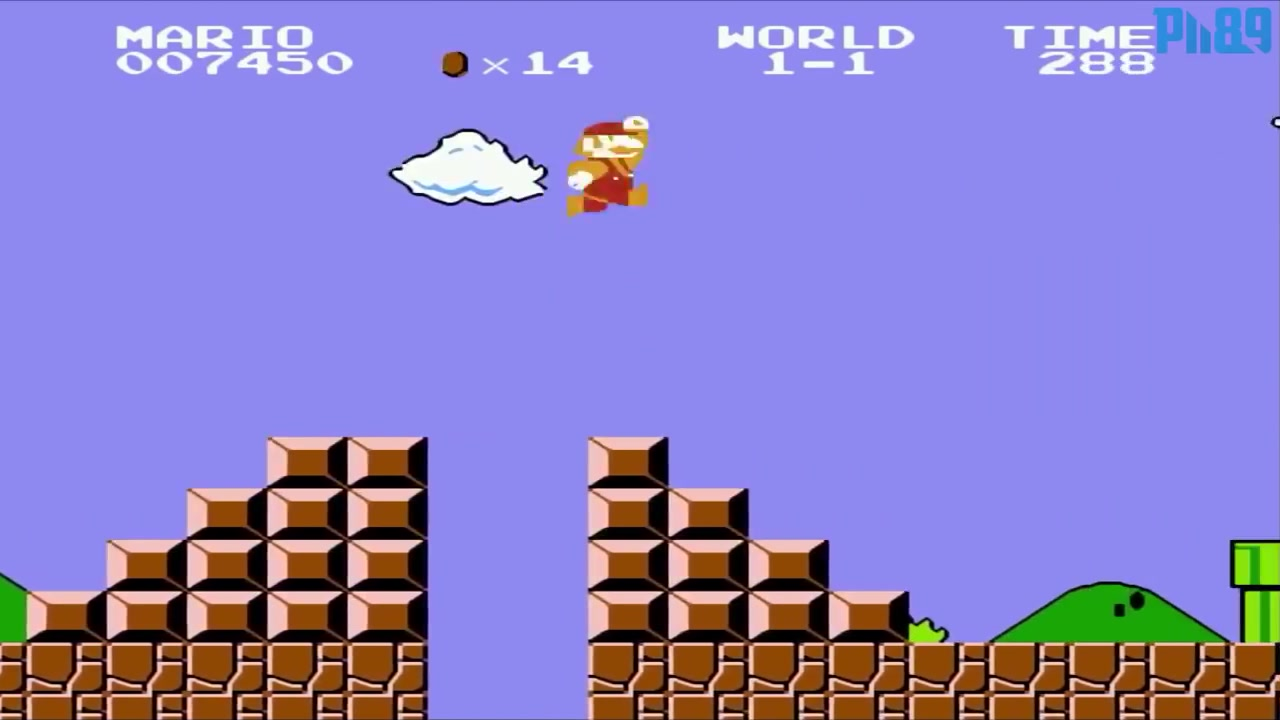mario: (562, 110, 671, 231)
